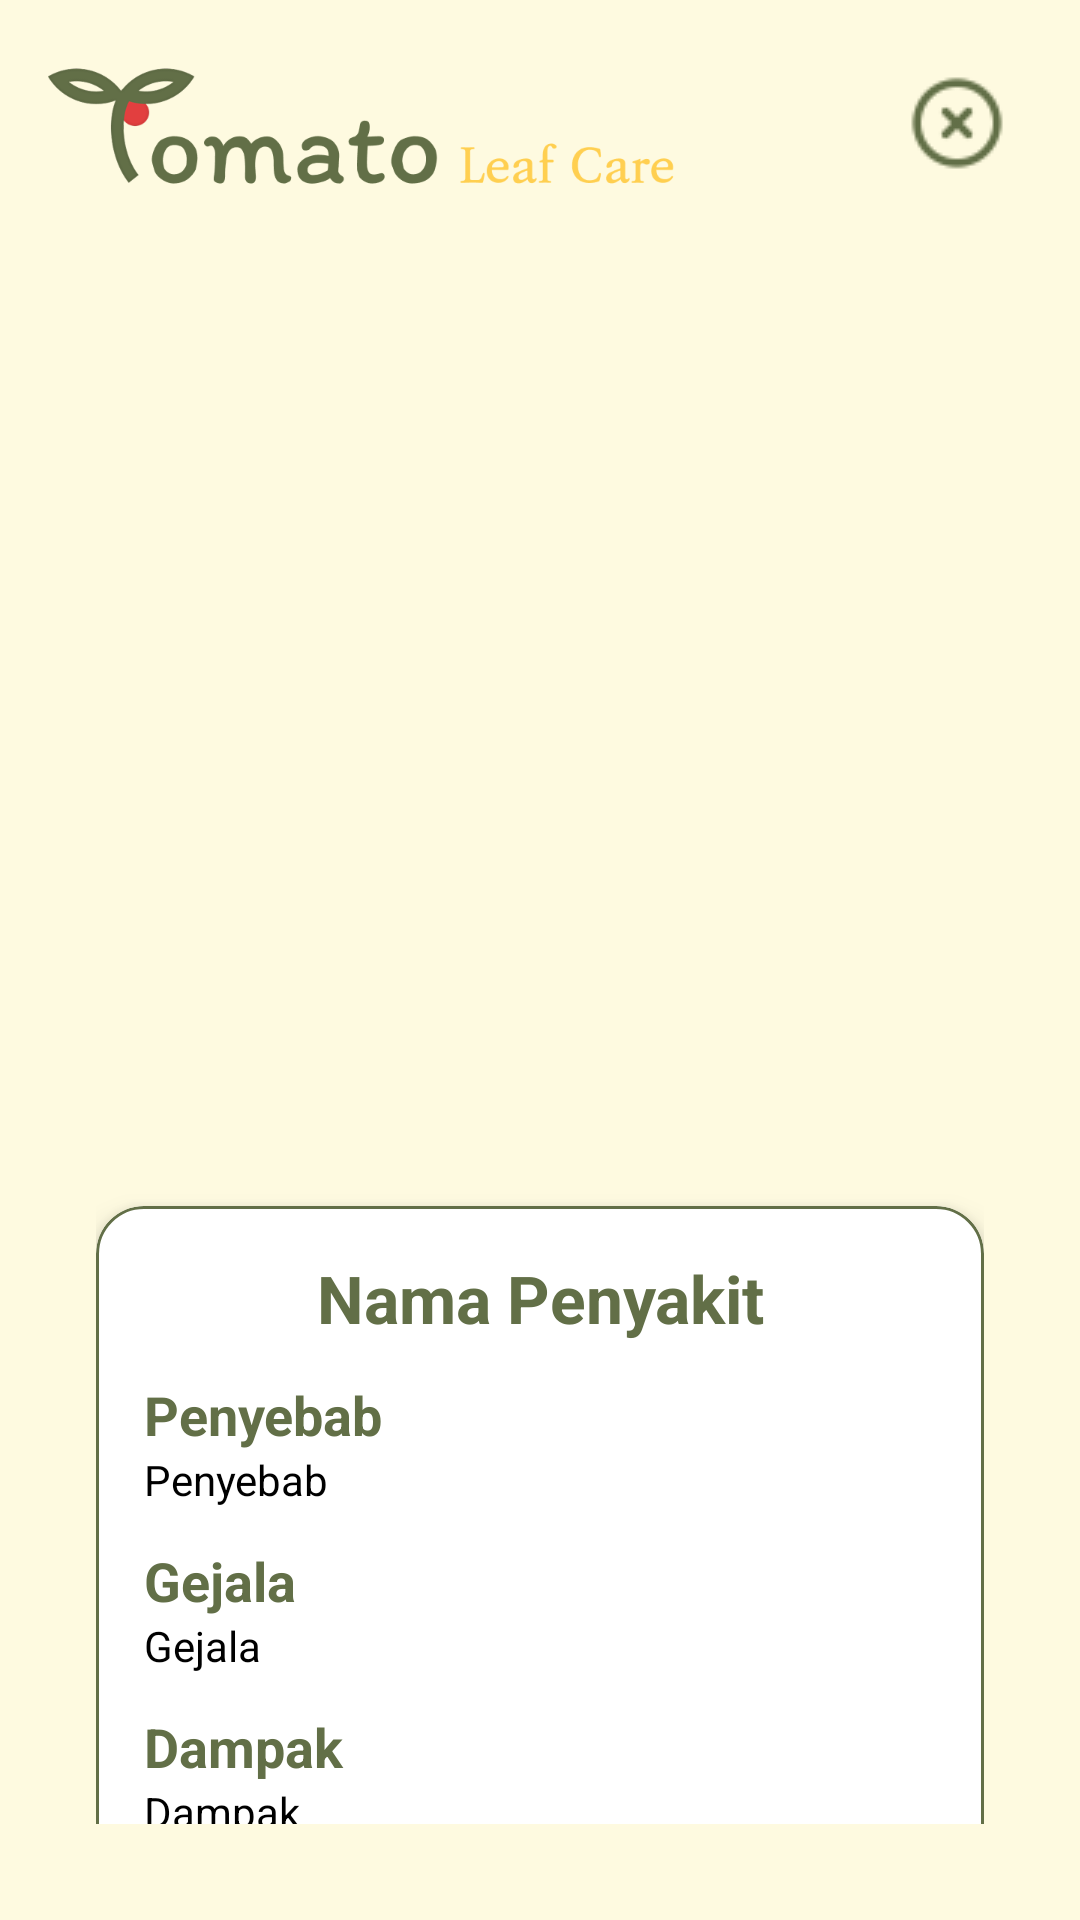

Where icons sit on this 1080 × 1920 app screen, as (x1, y1, x2, y2):
close: (911, 77, 1003, 169)
